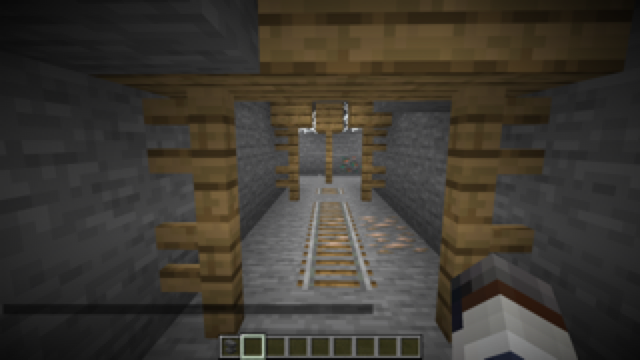copper: (339, 154, 362, 176)
iron: (311, 214, 431, 255)
